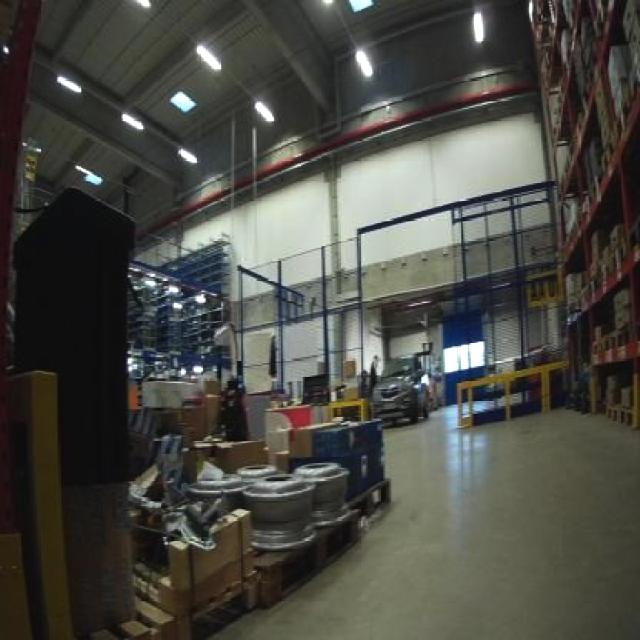pallets: (89, 420, 386, 637), (291, 417, 382, 497)
